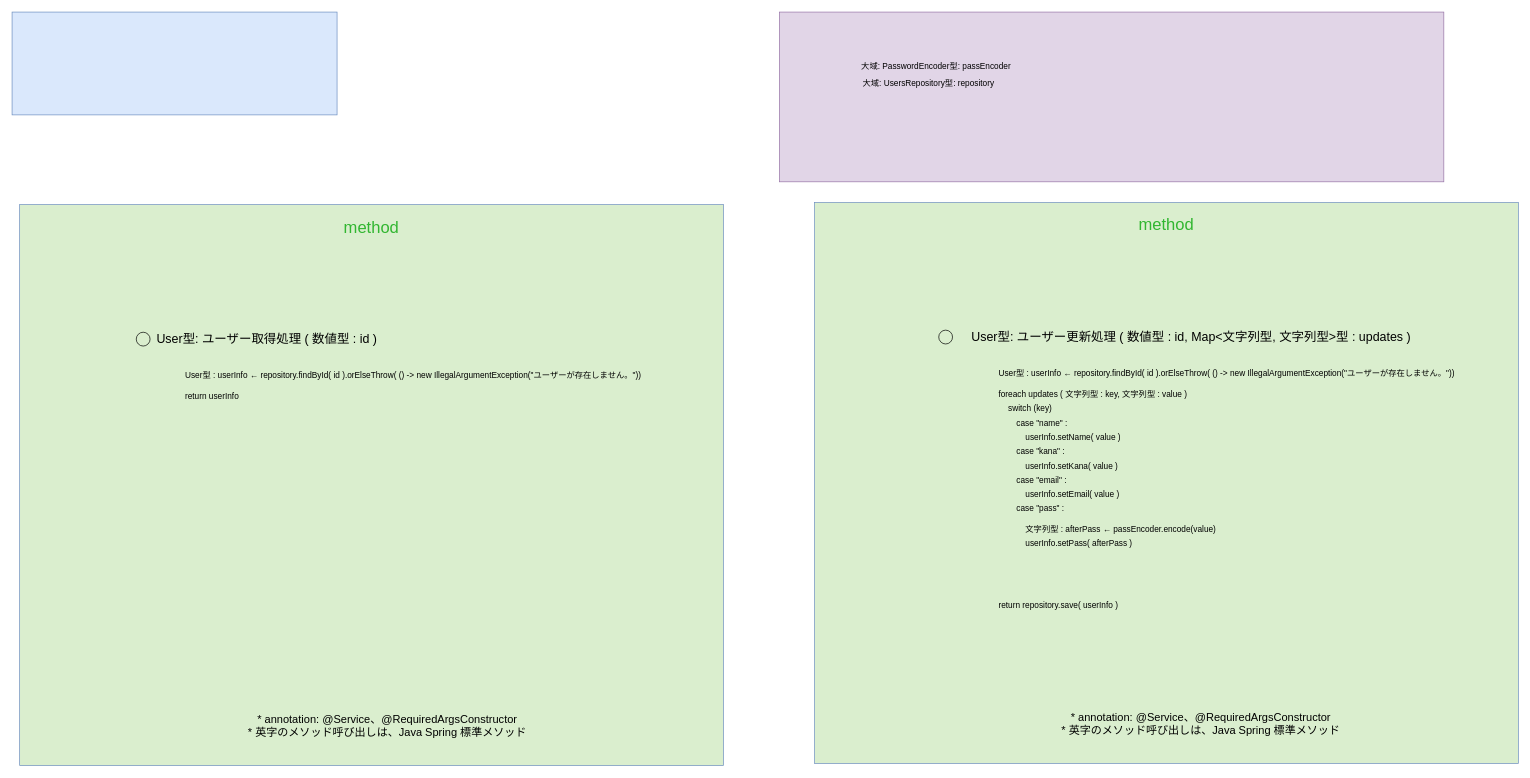
Image size: 1530x778. Some labels were removed from this diagram. The box of each missing label's shape, as (x1, y1, x2, y2) in pixels:
class ユーザー更新サービス群: (11, 11, 337, 115)
大域 field: (779, 11, 1444, 182)
